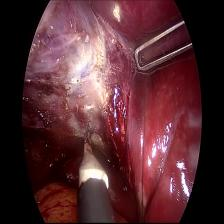Grasper: (133, 18, 195, 76)
Hook: (77, 118, 110, 196)
